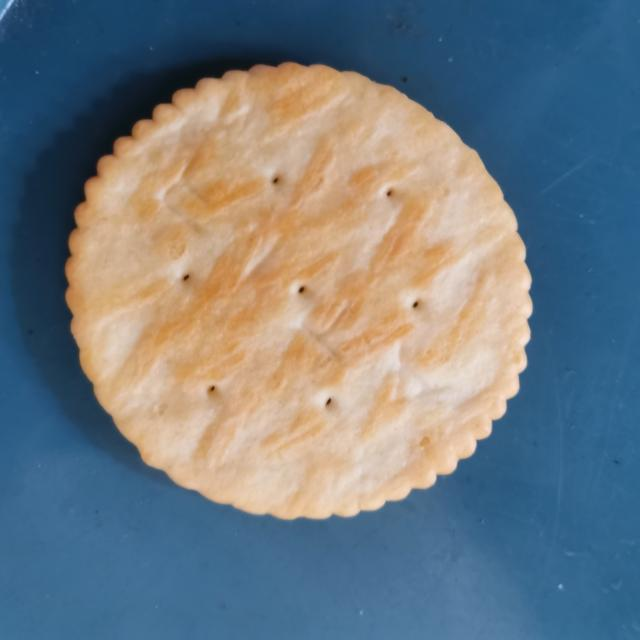Intact: (52, 52, 549, 542)
